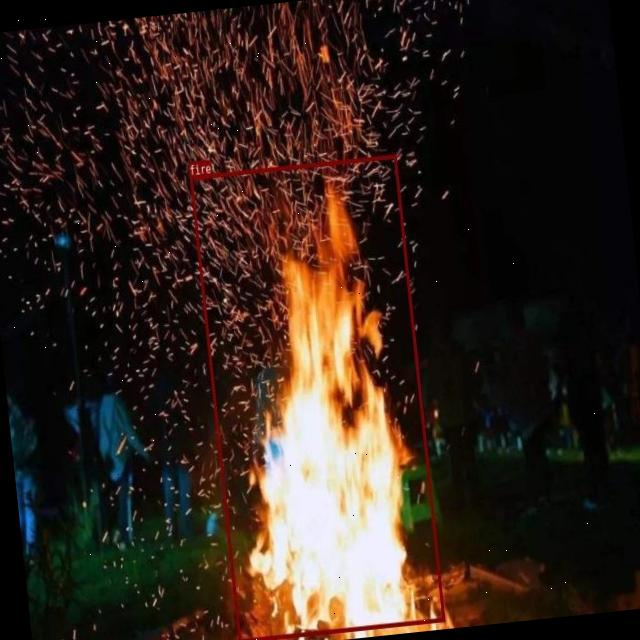fire: (189, 153, 444, 640)
